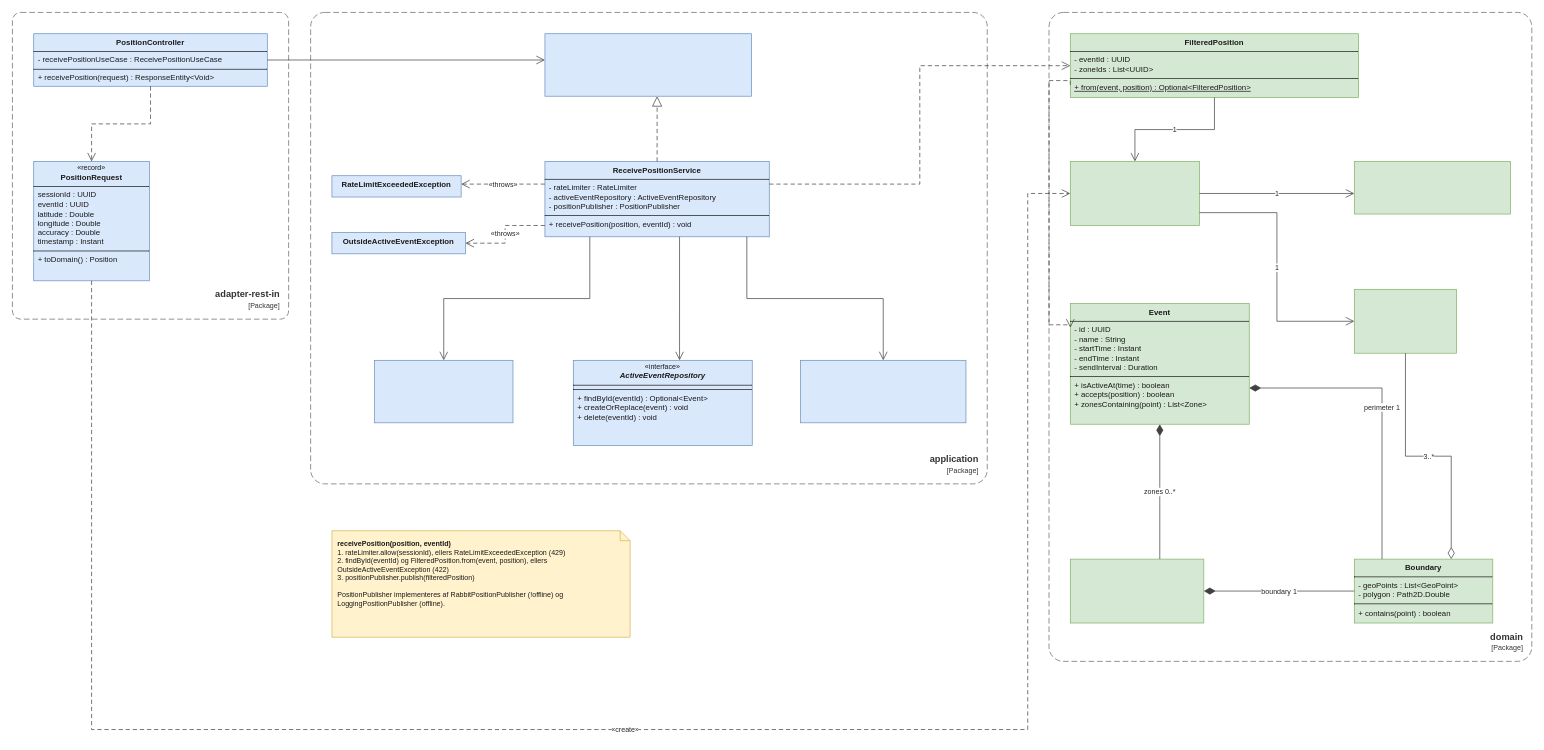
Some shapes in this 1544 by 750 pixel diagram are drawn without their labels. Each missing label, with the centre of its shape:
GeoPoint - latitude : double - longitude : double: the point at 1405,321
Position - accuracy : double - timestamp : Instant + getGeoPoint() : GeoPoint: the point at 1135,193
SessionId - value : UUID + of(value) : SessionId: the point at 1432,187
Zone - id : UUID - name : String + contains(point) : boolean: the point at 1137,590
«interface» PositionPublisher + publish(filteredPosition) : void: the point at 883,391
«interface» RateLimiter + allow(sessionId) : boolean: the point at 443,391
«interface» ReceivePositionUseCase + receivePosition(position, eventId) : void: the point at 648,64
